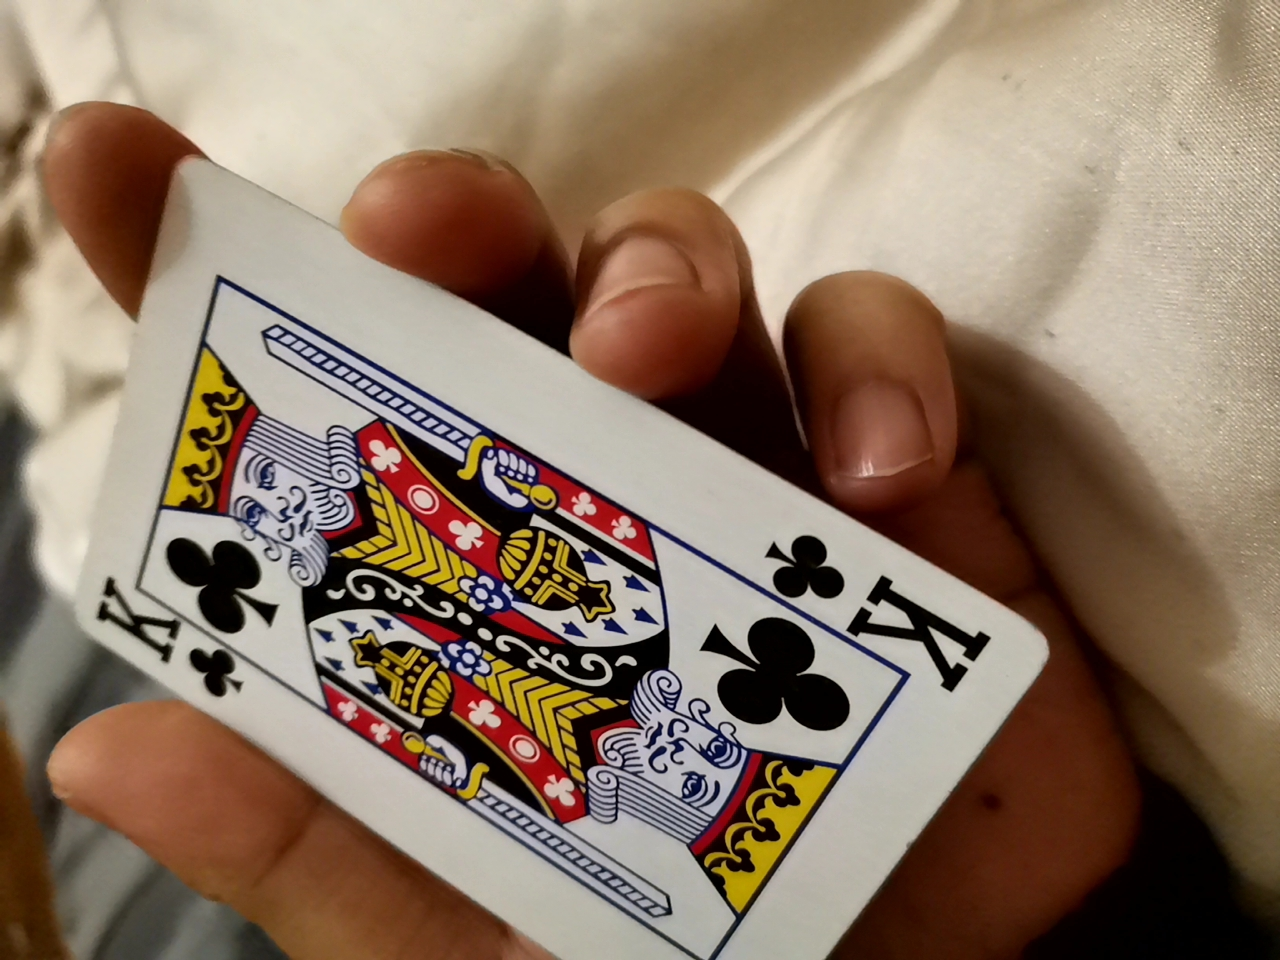mh k: (24, 190, 1045, 960)
